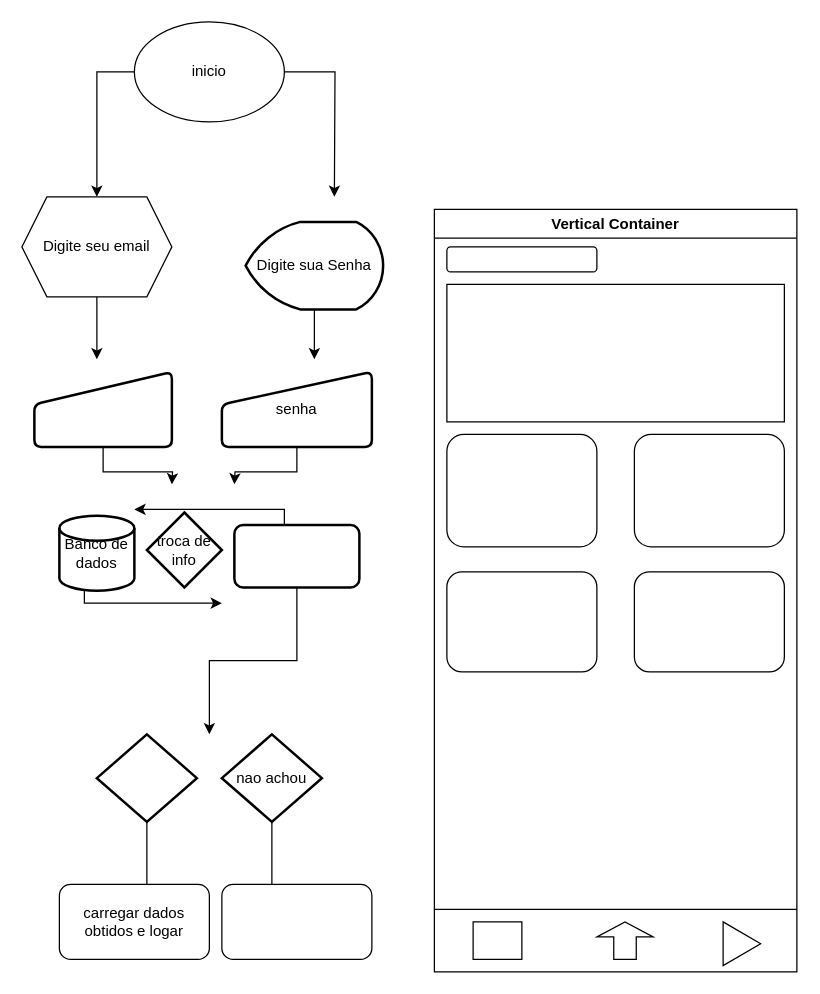
Some shapes in this 820 by 994 pixel diagram are drawn without their labels. Here are the shapes that lost their labels. From the top down, the centre of each, then its label:
At point (521, 259): "Pesquisar".
At point (102, 409): "email".
At point (296, 555): "verificação".
At point (146, 777): "achou".
At point (296, 921): "usuario nao localizado".
